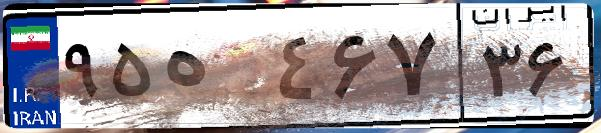3: (475, 38, 525, 113)
4: (270, 28, 330, 110)
5: (110, 28, 158, 98)
6: (330, 28, 385, 110), (525, 38, 570, 115)
7: (385, 28, 445, 110)
9: (57, 26, 110, 100)
ه: (158, 20, 270, 120)
